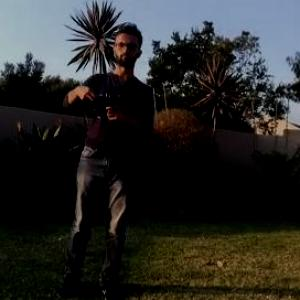follow: (48, 14, 159, 299)
